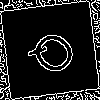Q: (25, 25, 88, 85)
